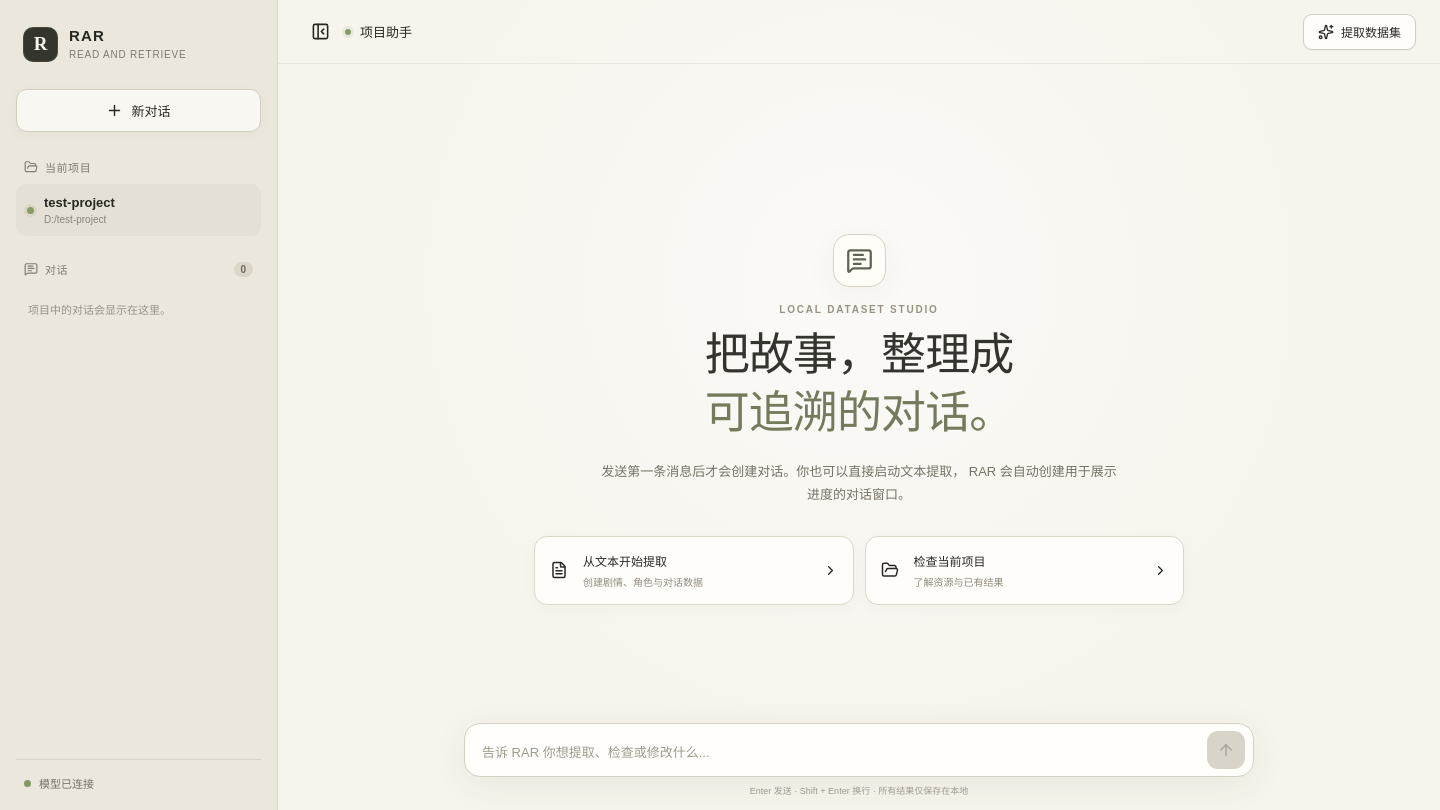
Test: App chat navigation › creates a chat lazily and renders its background response
The width and height of the screenshot is (1440, 810).
Type "你好" into the text box with placeholder "告诉 RAR 你想提取、检查或修改什么...". click: (844, 751)
box: [482, 734, 1207, 769]
Then press Enter
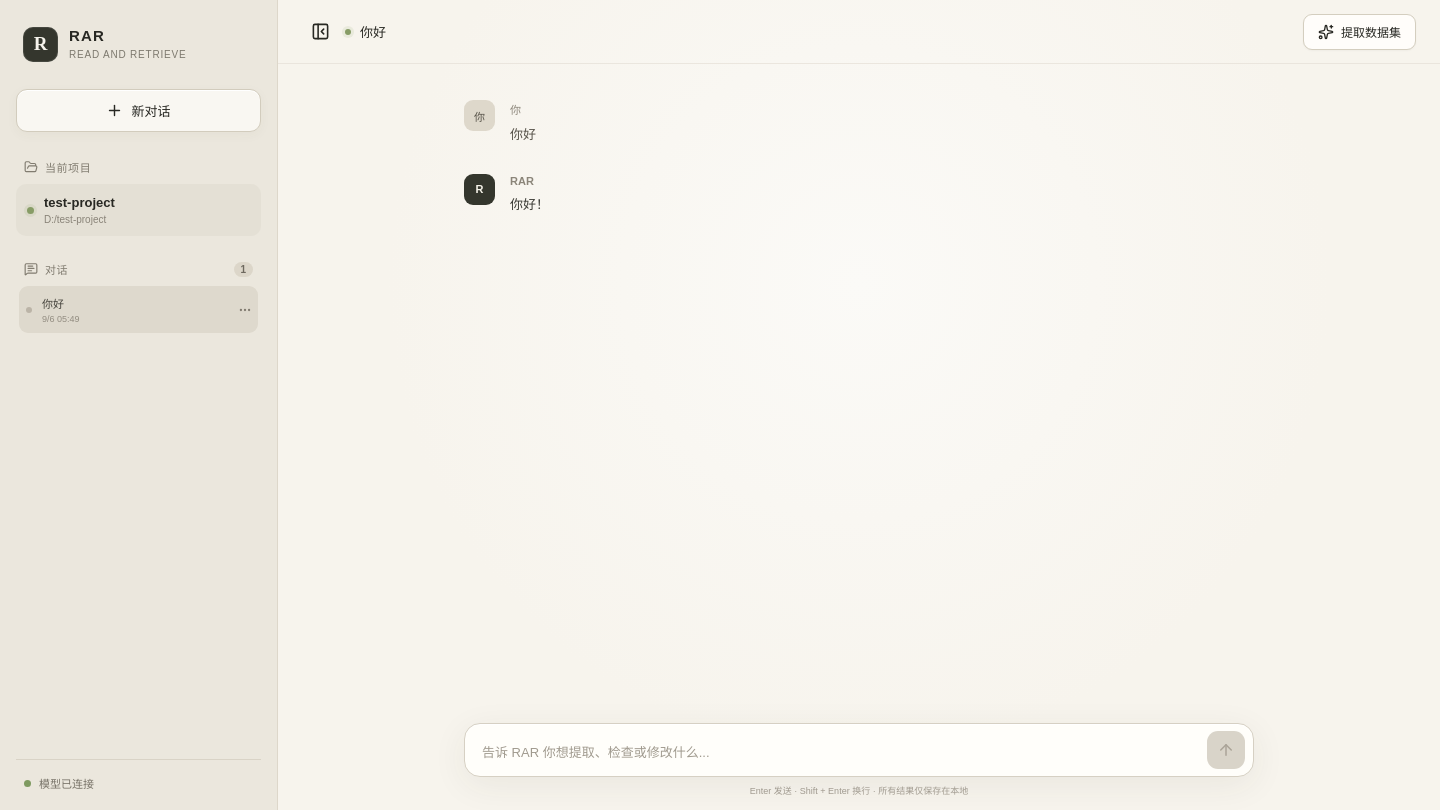
Expected: the text "test-project" is shown, [44, 195, 115, 210]
Result: the text "你好！" is shown at [510, 197, 549, 212]
Result: the text "你好" below "D:/test-project" is shown at [42, 298, 64, 310]
